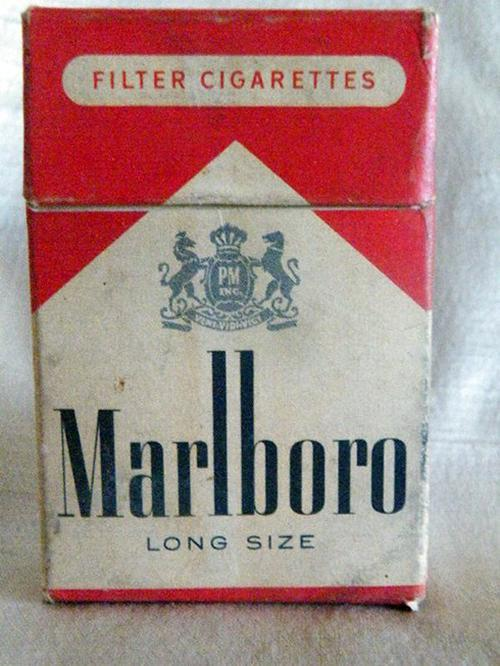marlboro: (30, 15, 422, 604)
